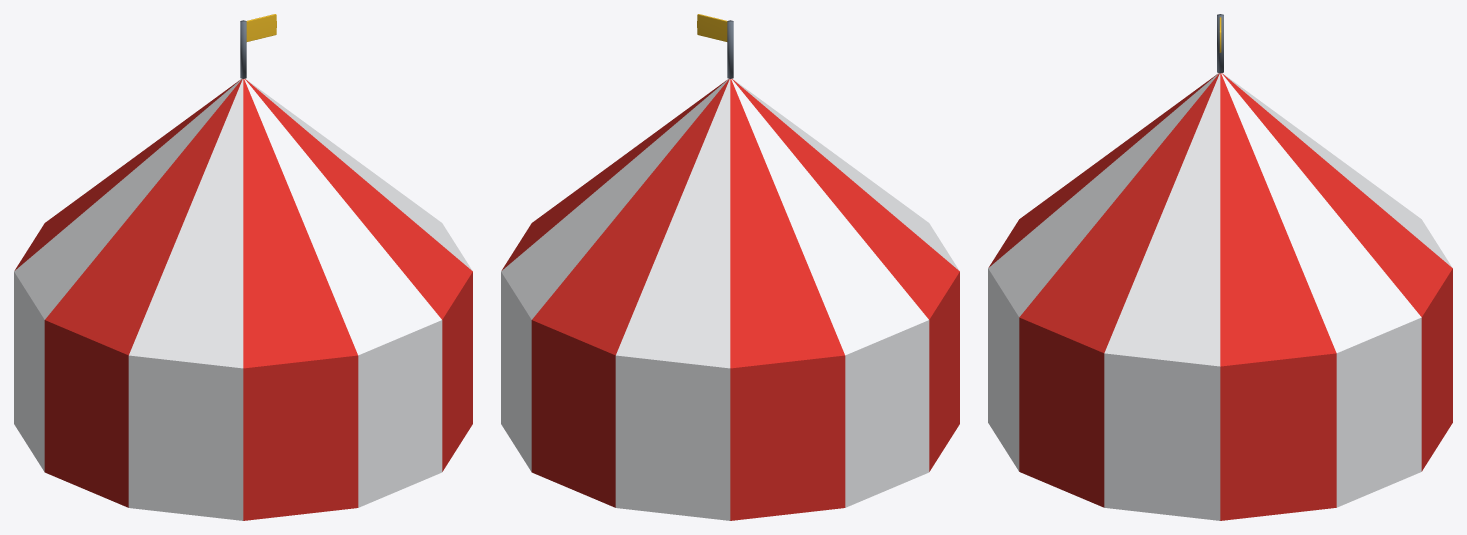
The model's file is tent.glb.
3 renders of one model, left to right at view 1: azimuth 30°, elevation 25°; view 2: azimuth 150°, elevation 25°; view 3: azimuth 270°, elevation 25°, orthographic.
Parts seen in each view (by area): view 1: Body; view 2: Body; view 3: Body.
Boxes of the visible parts, box(x1,y1,x2,y2) form: Body: box(14, 14, 472, 520); Body: box(501, 14, 959, 520); Body: box(988, 14, 1452, 520).
Bounding box in the file's own units: 6 × 5.8 × 6.
